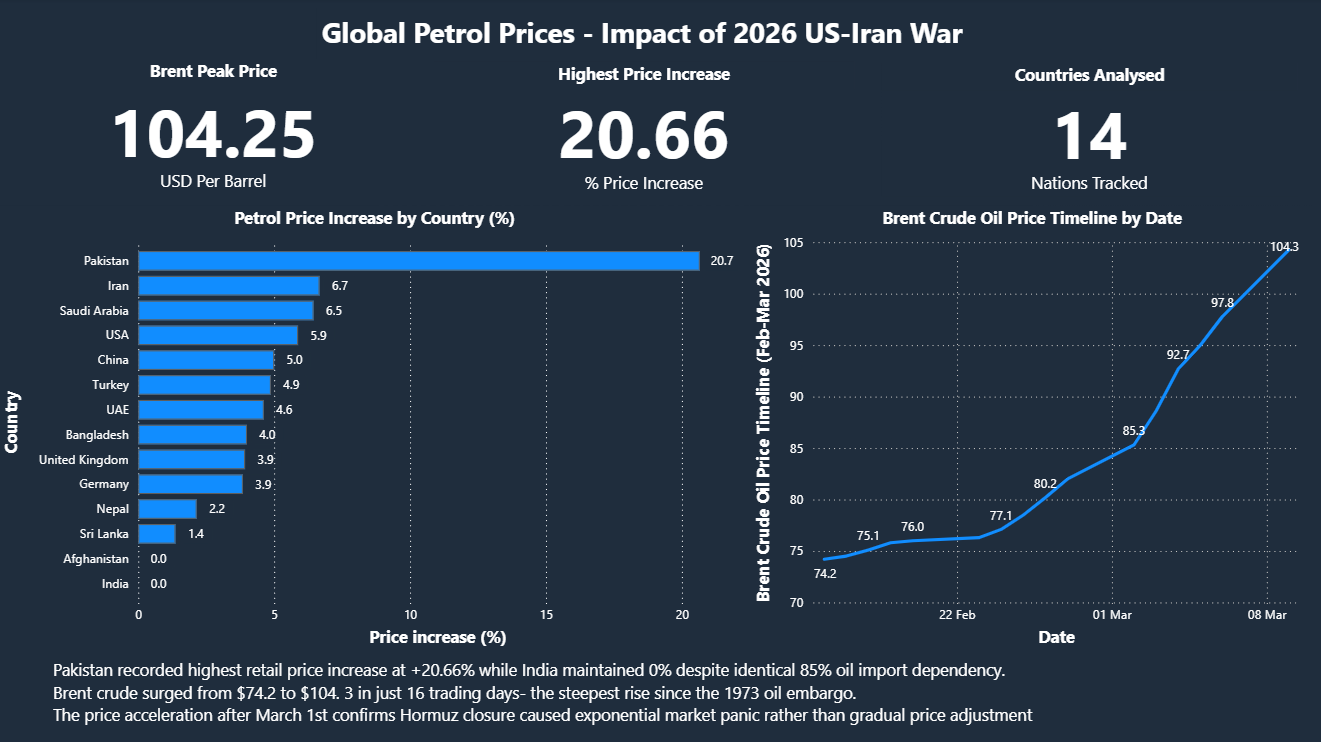

Layout of this report page (visuals, bound fields, positions):
{"tool":"powerbi","page":{"name":"Global Petrol Prices","canvas":[1280,720],"ordinal":0},"visuals":[{"type":"card","title":"Brent Peak Price","fields":{"Values":["Max(crude_oil_daily.Brent_USD)"]},"box":[14.5,59.1,384.9,132.7],"z":0},{"type":"card","title":"Highest Price Increase","fields":{"Values":["Max(petrol_prices_comparison.Pct_Increase)"]},"box":[419.8,61.5,405.4,130.3],"z":1000},{"type":"card","title":"Countries Analysed","fields":{"Values":["Count(petrol_prices_comparison.Country)"]},"box":[851.7,62.7,401.7,129.1],"z":2000},{"type":"textbox","box":[306.4,9.7,650.3,49.5],"z":3000},{"type":"clusteredBarChart","title":"Petrol Price Increase by Country (%)","fields":{"Category":["petrol_prices_comparison.Country"],"Y":["Sum(petrol_prices_comparison.Pct_Increase)"]},"box":[0,200.3,725.1,431.9],"z":4000},{"type":"lineChart","title":"Brent Crude Oil Price Timeline  by Date","fields":{"Y":["Max(crude_oil_daily.Brent_USD)"],"Category":["crude_oil_daily.Date"]},"box":[725.1,200.3,544.1,431.9],"z":5000},{"type":"textbox","box":[47.1,632.2,985.7,78.4],"z":5001}]}

Visuals, with their boxes in screenshot pixels (x1, y1, x2, y2), scaled from the page's 1280x720 canvas onto the 1321x742 screenshot:
"Brent Peak Price" card: <bbox>15, 61, 412, 198</bbox>
"Highest Price Increase" card: <bbox>433, 63, 852, 198</bbox>
"Countries Analysed" card: <bbox>879, 65, 1294, 198</bbox>
textbox: <bbox>316, 10, 987, 61</bbox>
"Petrol Price Increase by Country (%)" clusteredBarChart: <bbox>0, 206, 748, 652</bbox>
"Brent Crude Oil Price Timeline  by Date" lineChart: <bbox>748, 206, 1310, 652</bbox>
textbox: <bbox>49, 652, 1066, 732</bbox>
